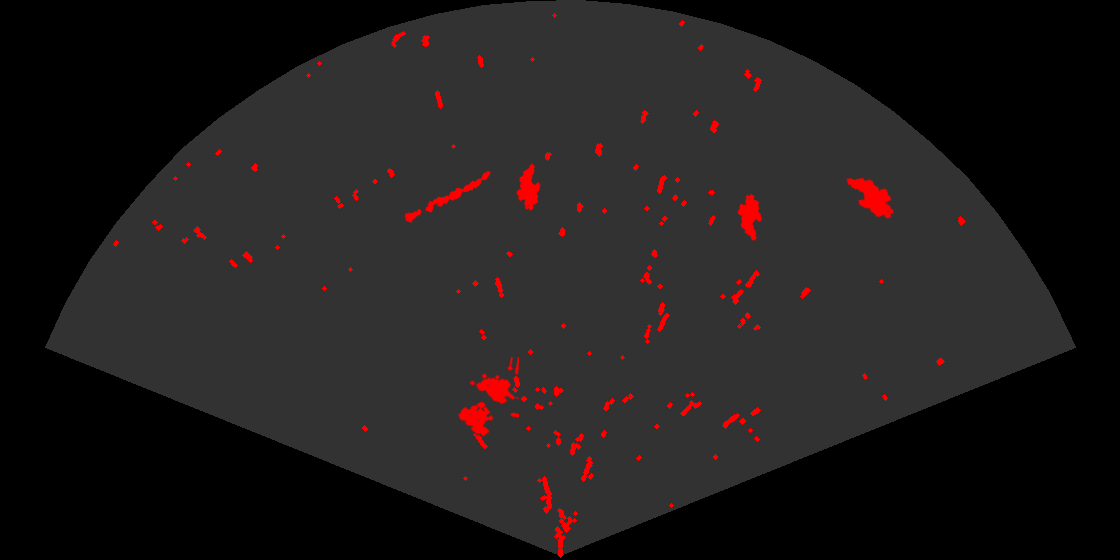AUV: (844, 176, 896, 220), (515, 162, 542, 212), (736, 192, 763, 242)
cage: (456, 357, 519, 438)
chain: (403, 169, 493, 224)
